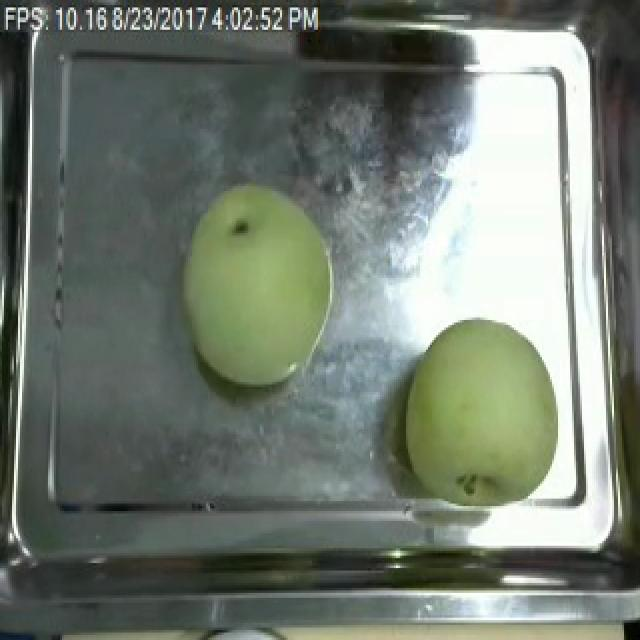50-_ripeness: (390, 287, 580, 520), (170, 188, 357, 402)
